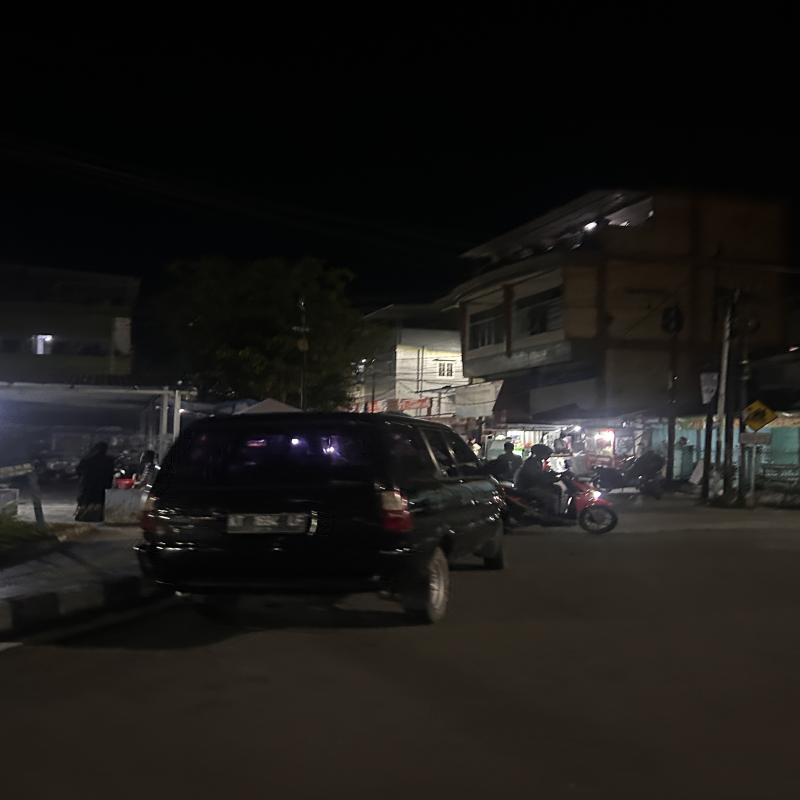license plate on a car: (227, 512, 321, 535)
